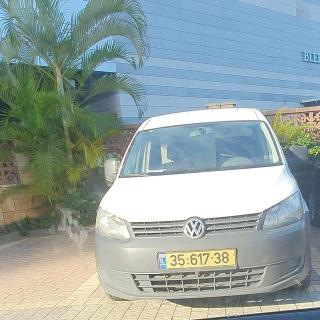LicensePlate: (166, 249, 235, 268)
